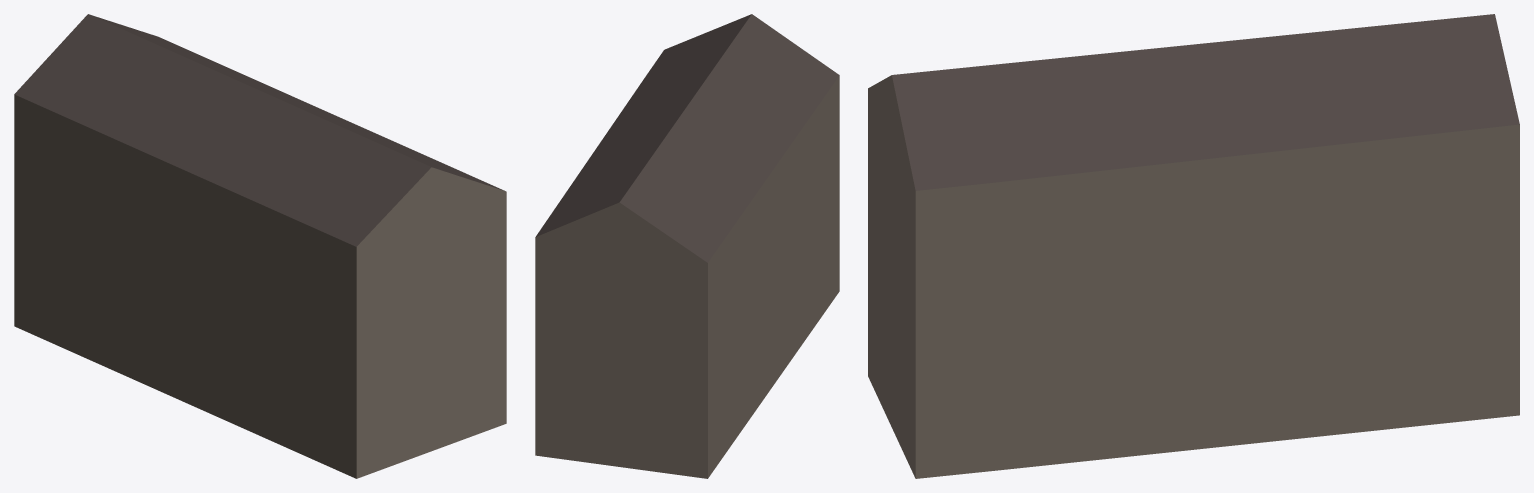
The picture shows the model from 3 angles, left to right: view 1: azimuth 30°, elevation 25°; view 2: azimuth 150°, elevation 25°; view 3: azimuth 270°, elevation 25°; orthographic projection. The views are drawn at different scales.
Visible parts, largest first — view 1: HP-w783664784; view 2: HP-w783664784; view 3: HP-w783664784.
Part boxes in pixels (x1=…): HP-w783664784: x1=14, y1=14, x2=506, y2=478; HP-w783664784: x1=535, y1=14, x2=839, y2=478; HP-w783664784: x1=868, y1=14, x2=1519, y2=478.
Size of the model in its own units: 7.3 by 7.35 by 12.31.
